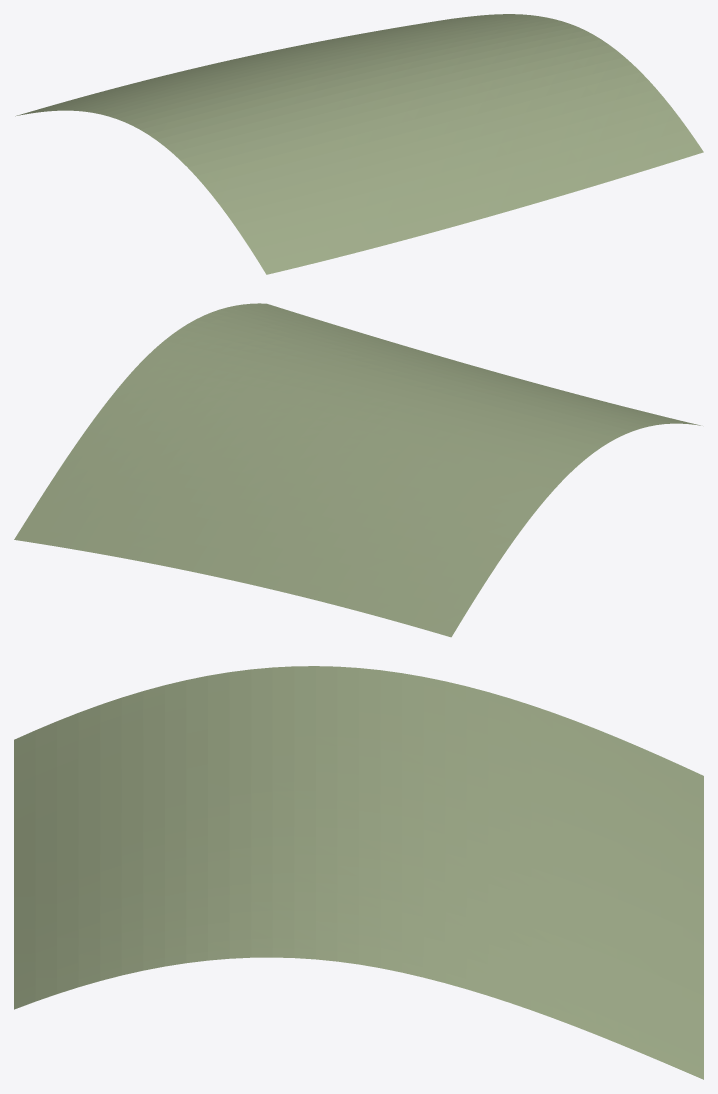
File: expanse-25-21.glb
3 views of the same model, one above another, from view 1: azimuth 30°, elevation 25°; view 2: azimuth 150°, elevation 25°; view 3: azimuth 270°, elevation 25° (orthographic). The views are drawn at different scales.
Visible parts, largest first — view 1: expanse-25-21; view 2: expanse-25-21; view 3: expanse-25-21.
Part boxes in pixels (bbox=[...]): expanse-25-21: bbox=[15, 14, 703, 274]; expanse-25-21: bbox=[14, 303, 700, 637]; expanse-25-21: bbox=[14, 666, 703, 1079].
Size of the model in its own units: 256 by 51.32 by 256.
